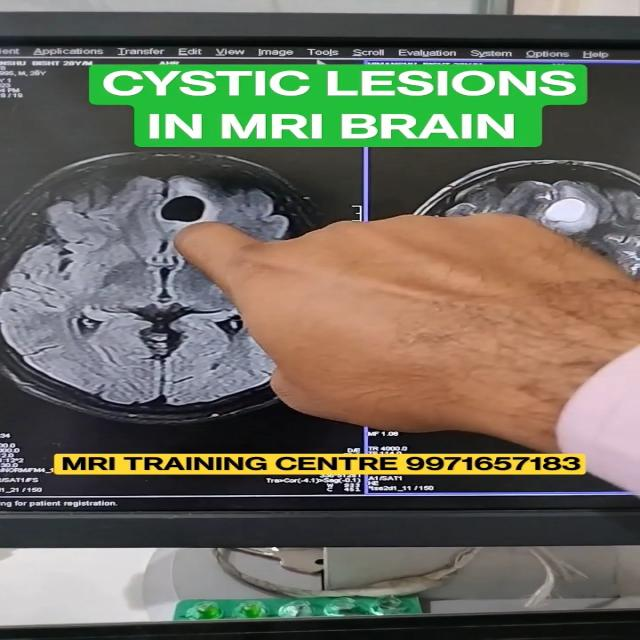tumor: (146, 169, 266, 242)
